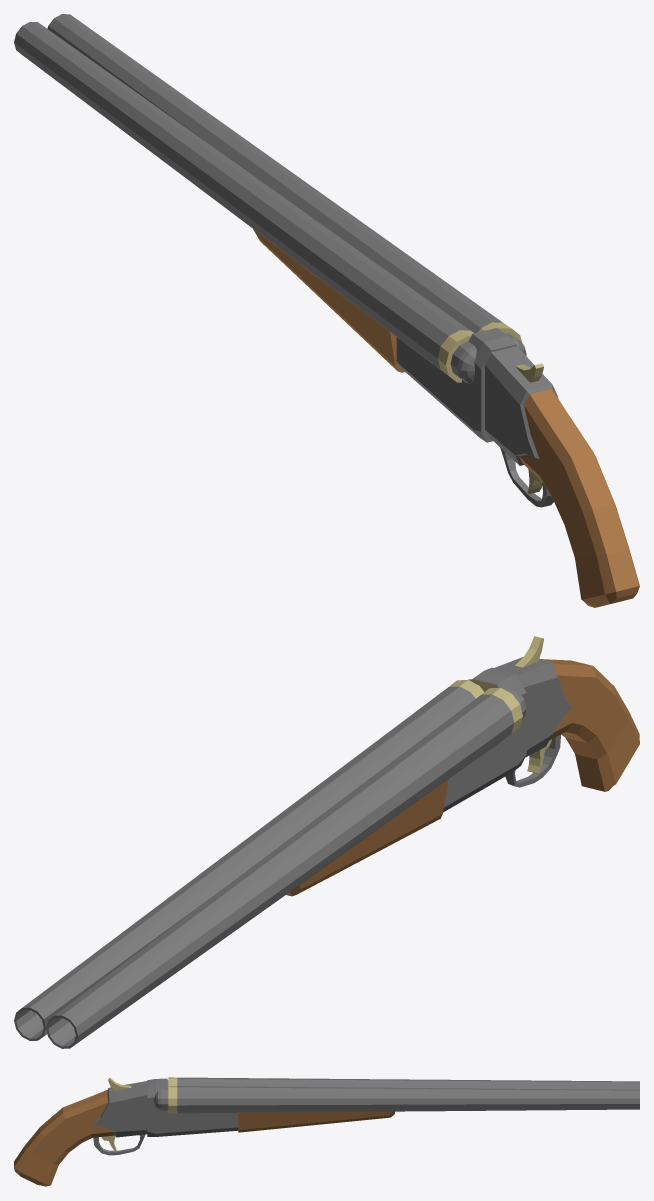
The model's file is Hunter-Shotgun-Complete.fbx.
3 renders of one model, top to bottom at view 1: azimuth 30°, elevation 25°; view 2: azimuth 150°, elevation 25°; view 3: azimuth 270°, elevation 25°, orthographic. The views are drawn at different scales.
Visible parts, largest first — view 1: Shotgun_C.001; view 2: Shotgun_C.001; view 3: Shotgun_C.001.
Boxes of the visible parts, x1,y1,x2,y2 form: Shotgun_C.001: (14, 14, 639, 607); Shotgun_C.001: (14, 636, 639, 1048); Shotgun_C.001: (14, 1077, 639, 1186).
Size of the model in its own units: 89.07 by 215 by 1162.
